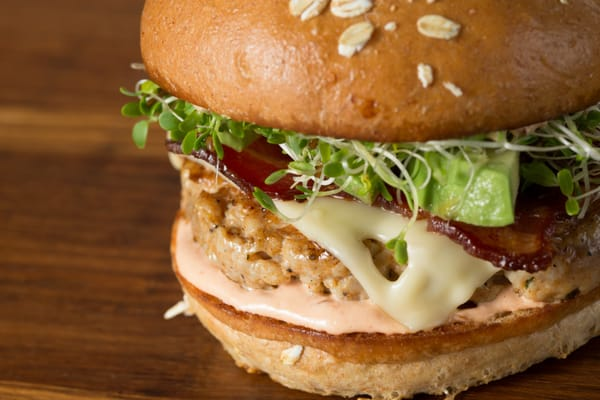soup: (123, 0, 600, 392)
